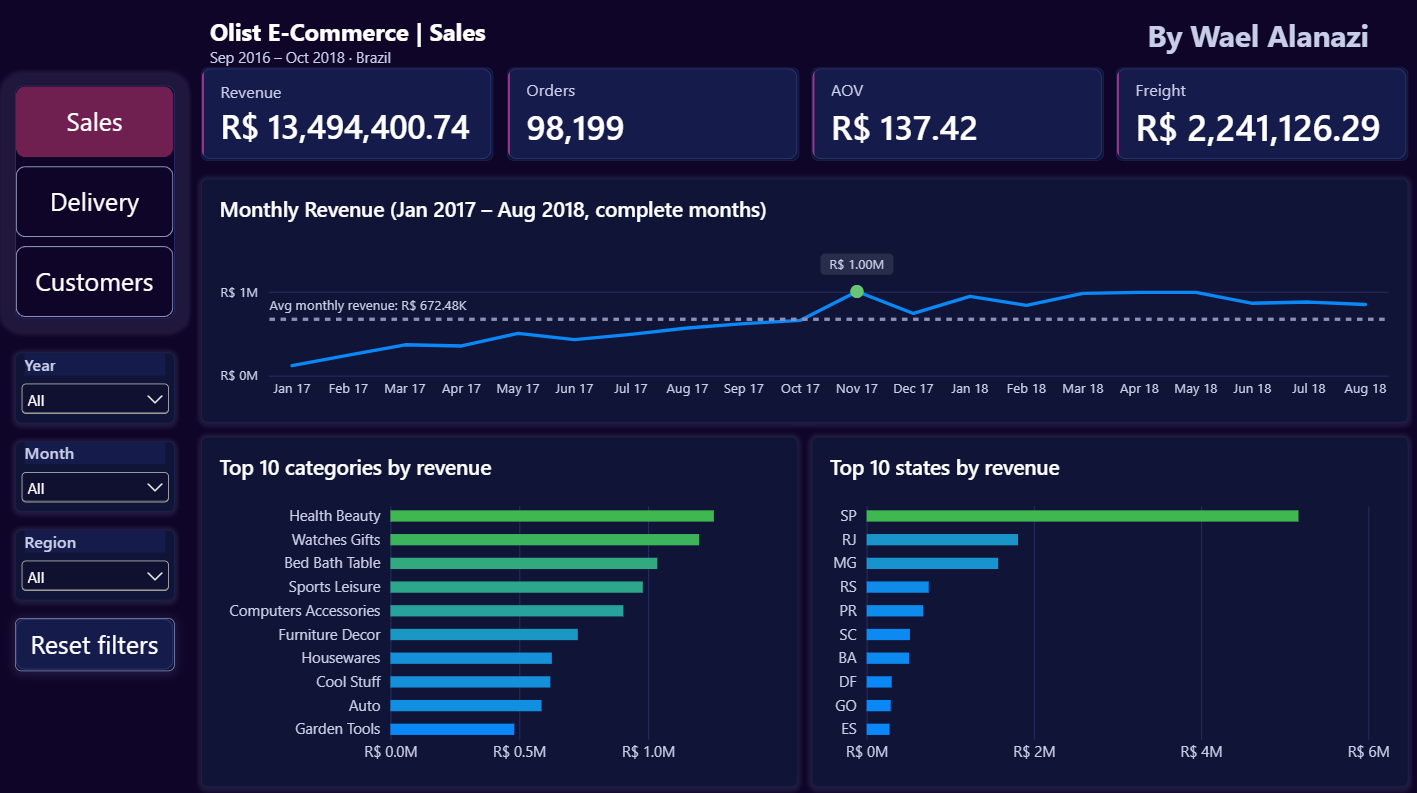

This screenshot's page, from the dashboard's own definition file:
{"tool":"powerbi","page":{"name":"Sales","canvas":[1280,720],"ordinal":0},"visuals":[{"type":"cardVisual","fields":{"Data":["Measures_.Freight"]},"box":[1009,64,263,84],"z":0},{"type":"cardVisual","fields":{"Data":["Measures_.Revenue"]},"box":[184,64,263,84],"z":1000},{"type":"cardVisual","fields":{"Data":["Measures_.AOV"]},"box":[734,64,263,84],"z":2000},{"type":"lineChart","title":"Monthly Revenue (Jan 2017 – Aug 2018, complete months)","fields":{"Category":["Date.Month Label"],"Y":["Measures_.Revenue","Measures_.Revenue Peak"]},"box":[184,164,1088,220],"z":3000},{"type":"clusteredBarChart","title":"Top 10 states by revenue","fields":{"Category":["customers.customer_state"],"Y":["Measures_.Revenue"]},"box":[734,396,538,316],"z":4000},{"type":"barChart","title":"Top 10 categories by revenue","fields":{"Category":["category.category label"],"Y":["Measures_.Revenue"]},"box":[184,396,538,316],"z":5000},{"type":"cardVisual","fields":{"Data":["Measures_.Orders"]},"box":[459,64,263,84],"z":6000},{"type":"pageNavigator","box":[16,80,144,210],"z":7000},{"type":"slicer","fields":{"Values":["Date.Year"]},"box":[16,320,144,64],"z":8000},{"type":"slicer","fields":{"Values":["Date.Month"]},"box":[16,400,144,64],"z":9000},{"type":"slicer","fields":{"Values":["customers.region"]},"box":[16,480,144,64],"z":10000},{"type":"actionButton","title":"Reset filters","box":[16,560,144,48],"z":11000},{"type":"textbox","box":[192,16,592,48],"z":12000},{"type":"textbox","box":[1008,16,256,48],"z":13000}]}

Visuals, with their boxes in screenshot pixels (x1, y1, x2, y2), scaled from the page's 1280x720 canvas onto the 1417x793 screenshot:
cardVisual - Measures_.Freight: 1117, 70, 1408, 163
cardVisual - Measures_.Revenue: 204, 70, 495, 163
cardVisual - Measures_.AOV: 813, 70, 1104, 163
"Monthly Revenue (Jan 2017 – Aug 2018, complete months)" lineChart: 204, 181, 1408, 423
"Top 10 states by revenue" clusteredBarChart: 813, 436, 1408, 784
"Top 10 categories by revenue" barChart: 204, 436, 799, 784
cardVisual - Measures_.Orders: 508, 70, 799, 163
pageNavigator: 18, 88, 177, 319
slicer - Date.Year: 18, 352, 177, 423
slicer - Date.Month: 18, 441, 177, 511
slicer - customers.region: 18, 529, 177, 599
"Reset filters" actionButton: 18, 617, 177, 670
textbox: 213, 18, 868, 70
textbox: 1116, 18, 1399, 70
